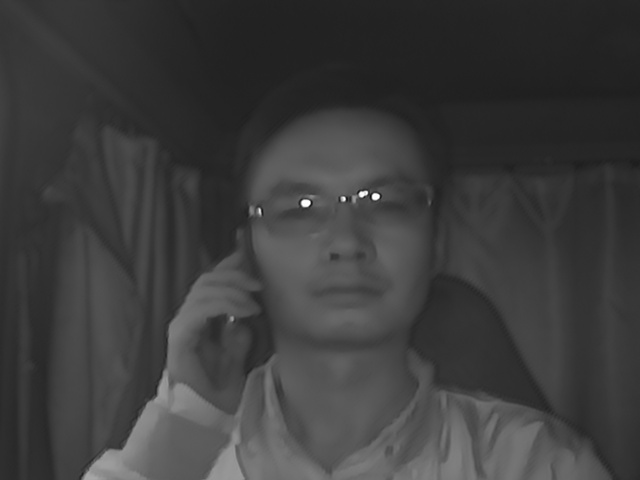hand: (161, 251, 263, 400)
